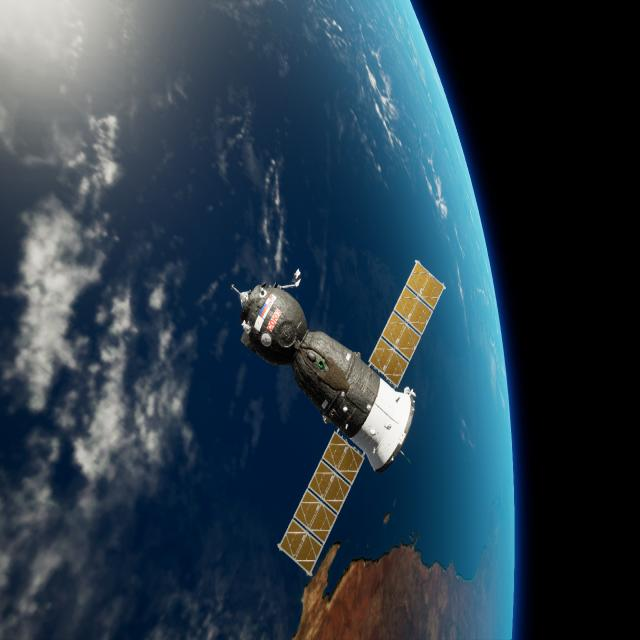Satellites revolving around earth: (229, 255, 448, 579)
